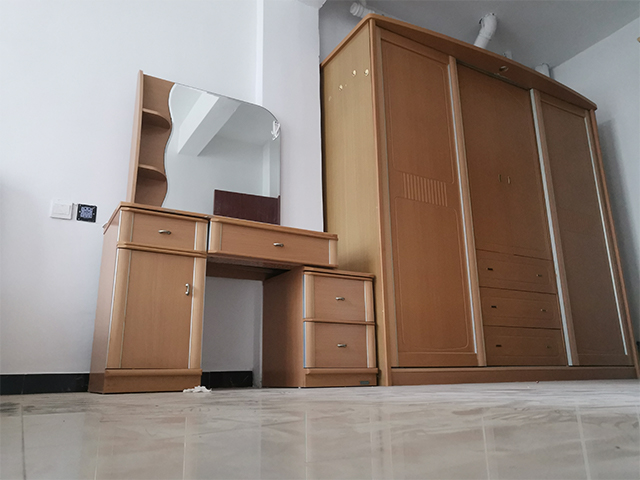cabinet: (317, 12, 640, 389), (99, 202, 381, 396)
